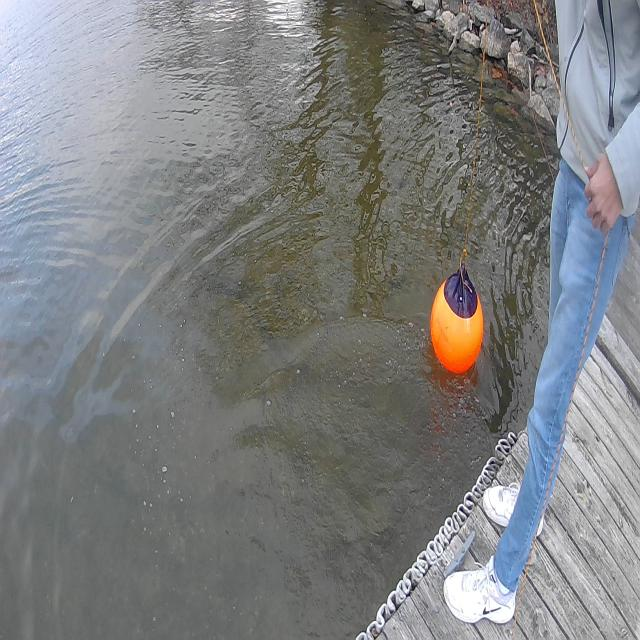Buoy: (427, 249, 486, 386)
